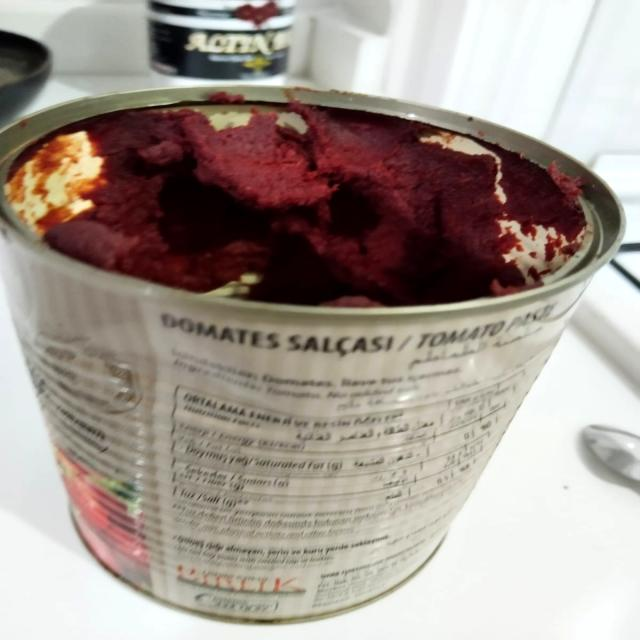tomato paste: (28, 102, 568, 615)
